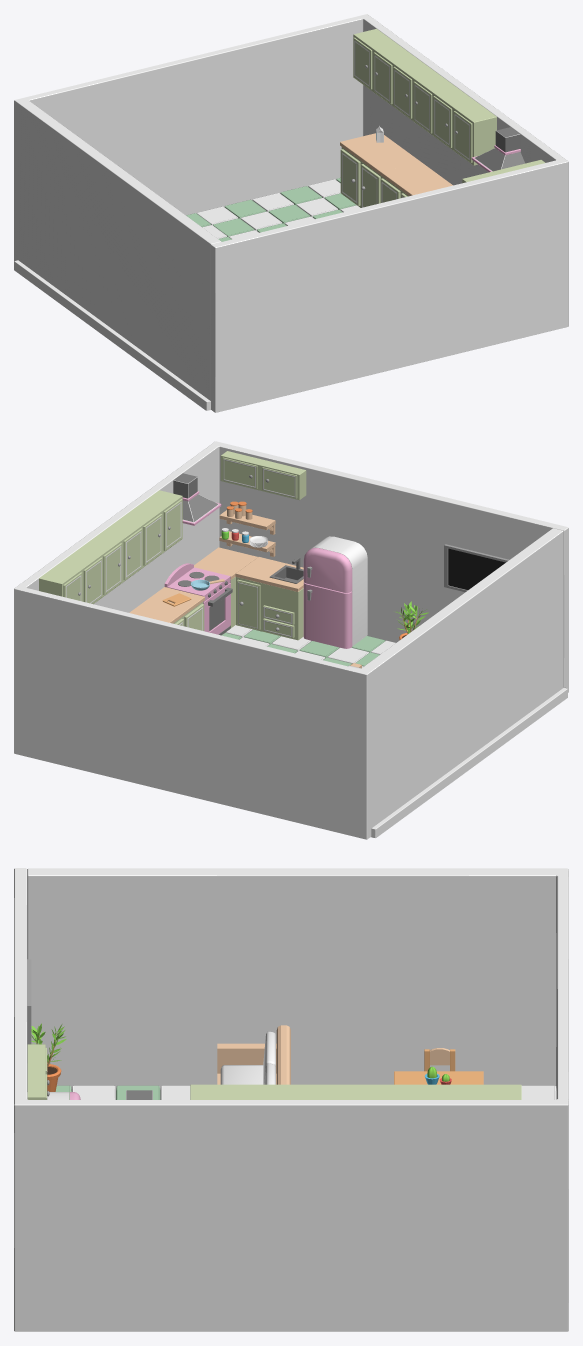
Rendered from KitchenV2.fbx.
3 renders of one model, top to bottom at view 1: azimuth 30°, elevation 25°; view 2: azimuth 150°, elevation 25°; view 3: azimuth 270°, elevation 25°, orthographic. The views are drawn at different scales.
Parts seen in each view (by area): view 1: Wall, Floor tile.001, Counter.002, Cupboard.002, Cupboard.001, Cupboard, Floor, Counter.001, Hood; view 2: Wall, Fridge, Counter with sink, Wall shelf, Cupboard.002, Cupboard, Floor, Cupboard.001, Floor tile, Stove, Cube, Counter (+4 smaller); view 3: Wall, Sofa, Cupboard.001, Cupboard.002, Cupboard, Floor tile.003, Wall shelf, Table, Plant, Chair.001.
Boxes of the visible parts, left/top/right/bottom form: Wall: left=14, top=14, right=568, bottom=412; Floor tile.001: left=197, top=178, right=359, bottom=239; Counter.002: left=340, top=133, right=419, bottom=207; Cupboard.002: left=433, top=87, right=496, bottom=165; Cupboard.001: left=353, top=28, right=416, bottom=106; Cupboard: left=393, top=58, right=456, bottom=135; Floor: left=14, top=260, right=210, bottom=410; Counter.001: left=379, top=161, right=452, bottom=202; Hood: left=471, top=127, right=525, bottom=172; Wall: left=14, top=441, right=568, bottom=839; Fridge: left=303, top=536, right=367, bottom=648; Counter with sink: left=235, top=557, right=303, bottom=640; Wall shelf: left=220, top=451, right=306, bottom=500; Cupboard.002: left=119, top=490, right=182, bottom=567; Cupboard: left=79, top=519, right=142, bottom=597; Floor: left=371, top=687, right=567, bottom=837; Cupboard.001: left=39, top=549, right=102, bottom=604; Floor tile: left=221, top=625, right=385, bottom=666; Stove: left=164, top=563, right=232, bottom=635; Cube: left=444, top=544, right=509, bottom=592; Counter: left=129, top=587, right=204, bottom=630; Wall: left=14, top=868, right=568, bottom=1331; Sofa: left=217, top=1025, right=290, bottom=1084; Cupboard.001: left=410, top=1084, right=521, bottom=1099; Cupboard.002: left=190, top=1084, right=300, bottom=1099; Cupboard: left=301, top=1084, right=410, bottom=1099; Floor tile.003: left=55, top=1085, right=190, bottom=1099; Wall shelf: left=27, top=1044, right=49, bottom=1099; Table: left=394, top=1071, right=483, bottom=1084; Plant: left=31, top=1023, right=66, bottom=1091; Chair.001: left=424, top=1048, right=455, bottom=1071.
Size of the model in its own units: 1540 by 681 by 1505.
